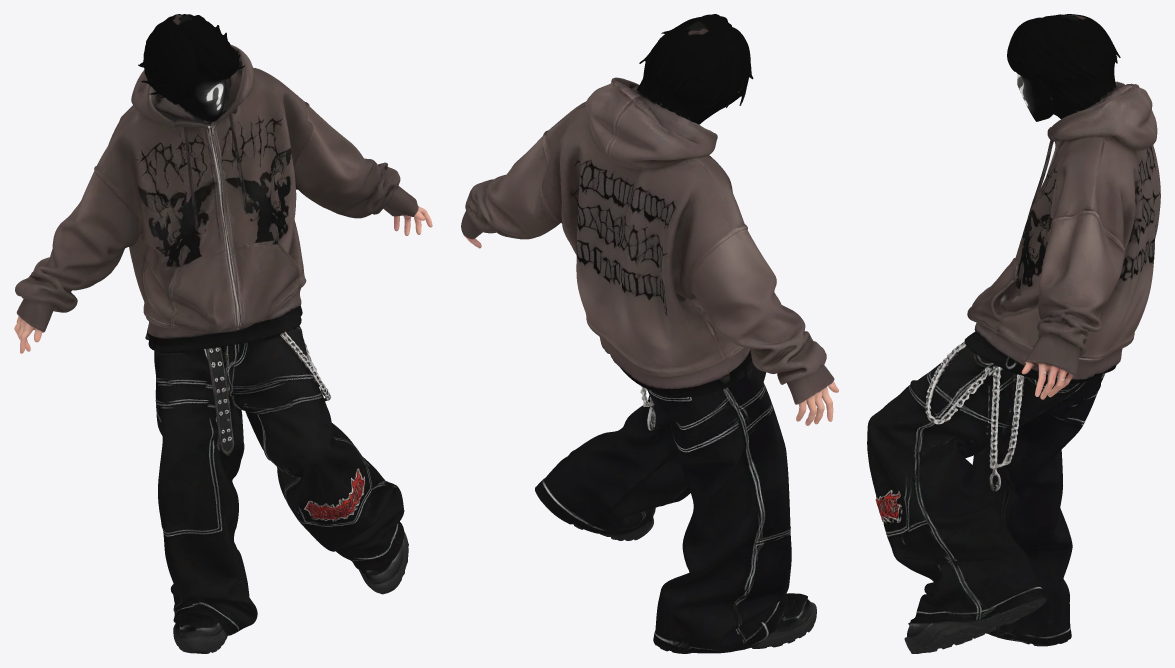
The model's file is chamarra_Gothica_modelo_3D.glb.
The picture shows the model from 3 angles, left to right: view 1: azimuth 30°, elevation 25°; view 2: azimuth 150°, elevation 25°; view 3: azimuth 270°, elevation 25°; orthographic projection. The views are drawn at different scales.
Visible parts, largest first — view 1: mesh_node; view 2: mesh_node; view 3: mesh_node.
Part boxes in pixels (box(x1,y1,x2,y2)): mesh_node: box(14, 14, 432, 653); mesh_node: box(461, 14, 838, 653); mesh_node: box(867, 14, 1160, 653).
Size of the model in its own units: 1.27 by 1.9 by 0.8277.
Materials: 1 (1 with a texture image).
